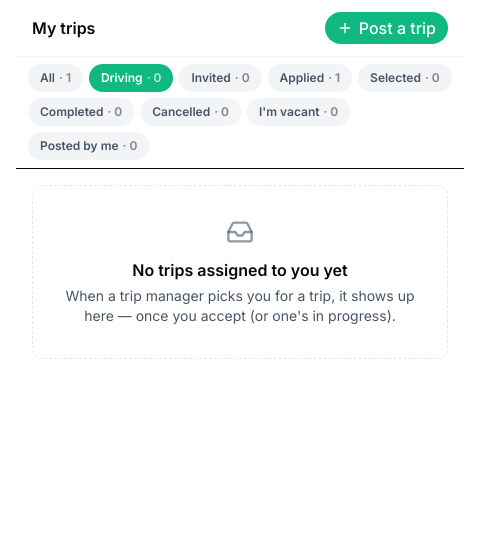
Scenario: DriverActivityPage › a not-picked (rejected) Applied row expands inline, shows a status banner + limited details, and exposes no agent PII
What coordinates should you click on to do the following:
click the button "Applied · 1"
I would click on:
 (310, 78)
Its box is [268, 64, 352, 92].
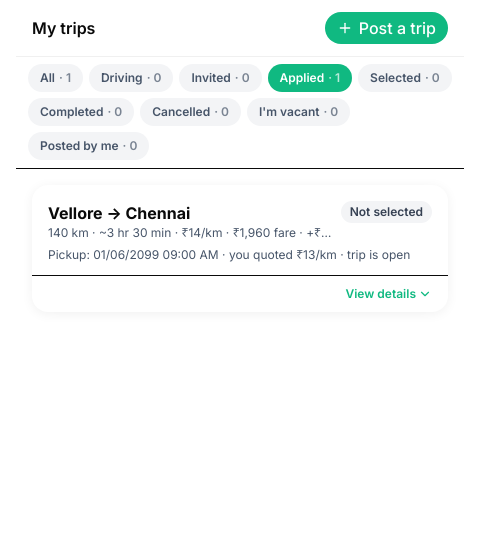
Now the text "Not selected" is shown, box [341, 201, 432, 223]
# Expanding stays in place.
What coordinates should you click on to do the following:
click the button "View details"
I would click on:
 (389, 294)
Its box is [346, 286, 432, 302].
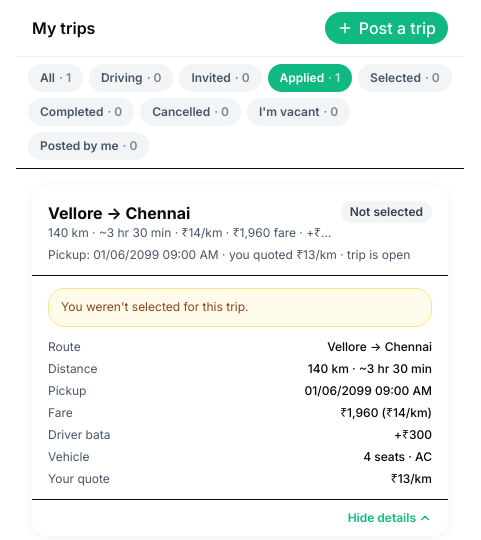
Now the text "You weren't selected for this trip." is shown, box [61, 299, 248, 314]
